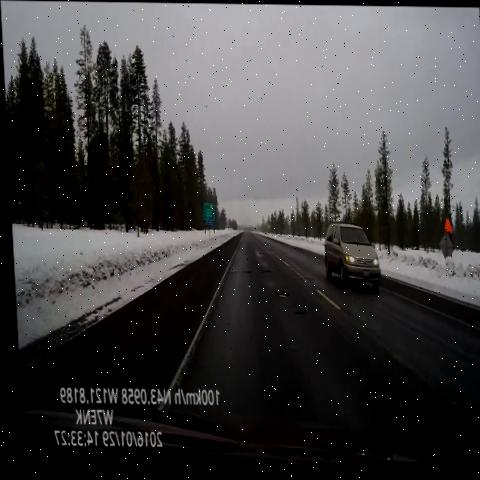pothole: (269, 277, 289, 307), (283, 298, 305, 320), (253, 260, 269, 279), (233, 266, 249, 277)
